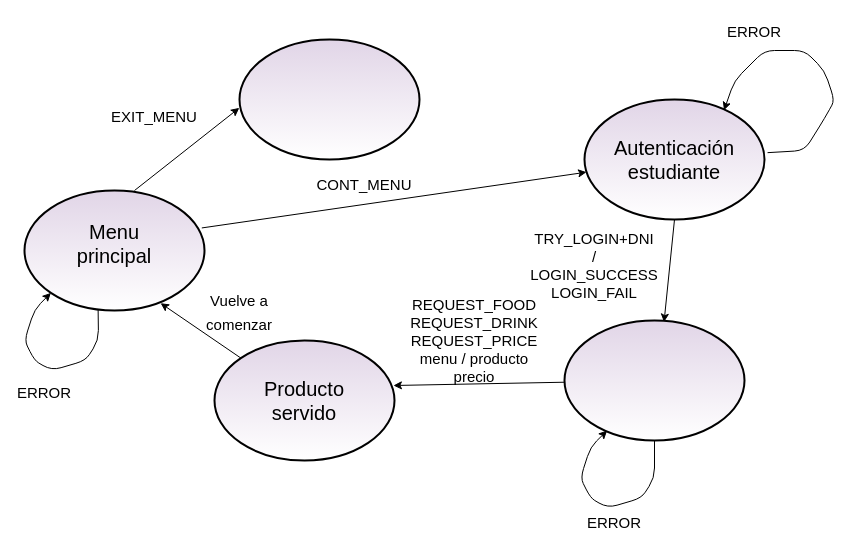
Some shapes in this 860 by 549 pixel diagram are drawn without their labels. The centre of each missing label's shape, as x and y in pixels:
"Final" goes at [329,99].
"Menú comida" goes at [654,380].
